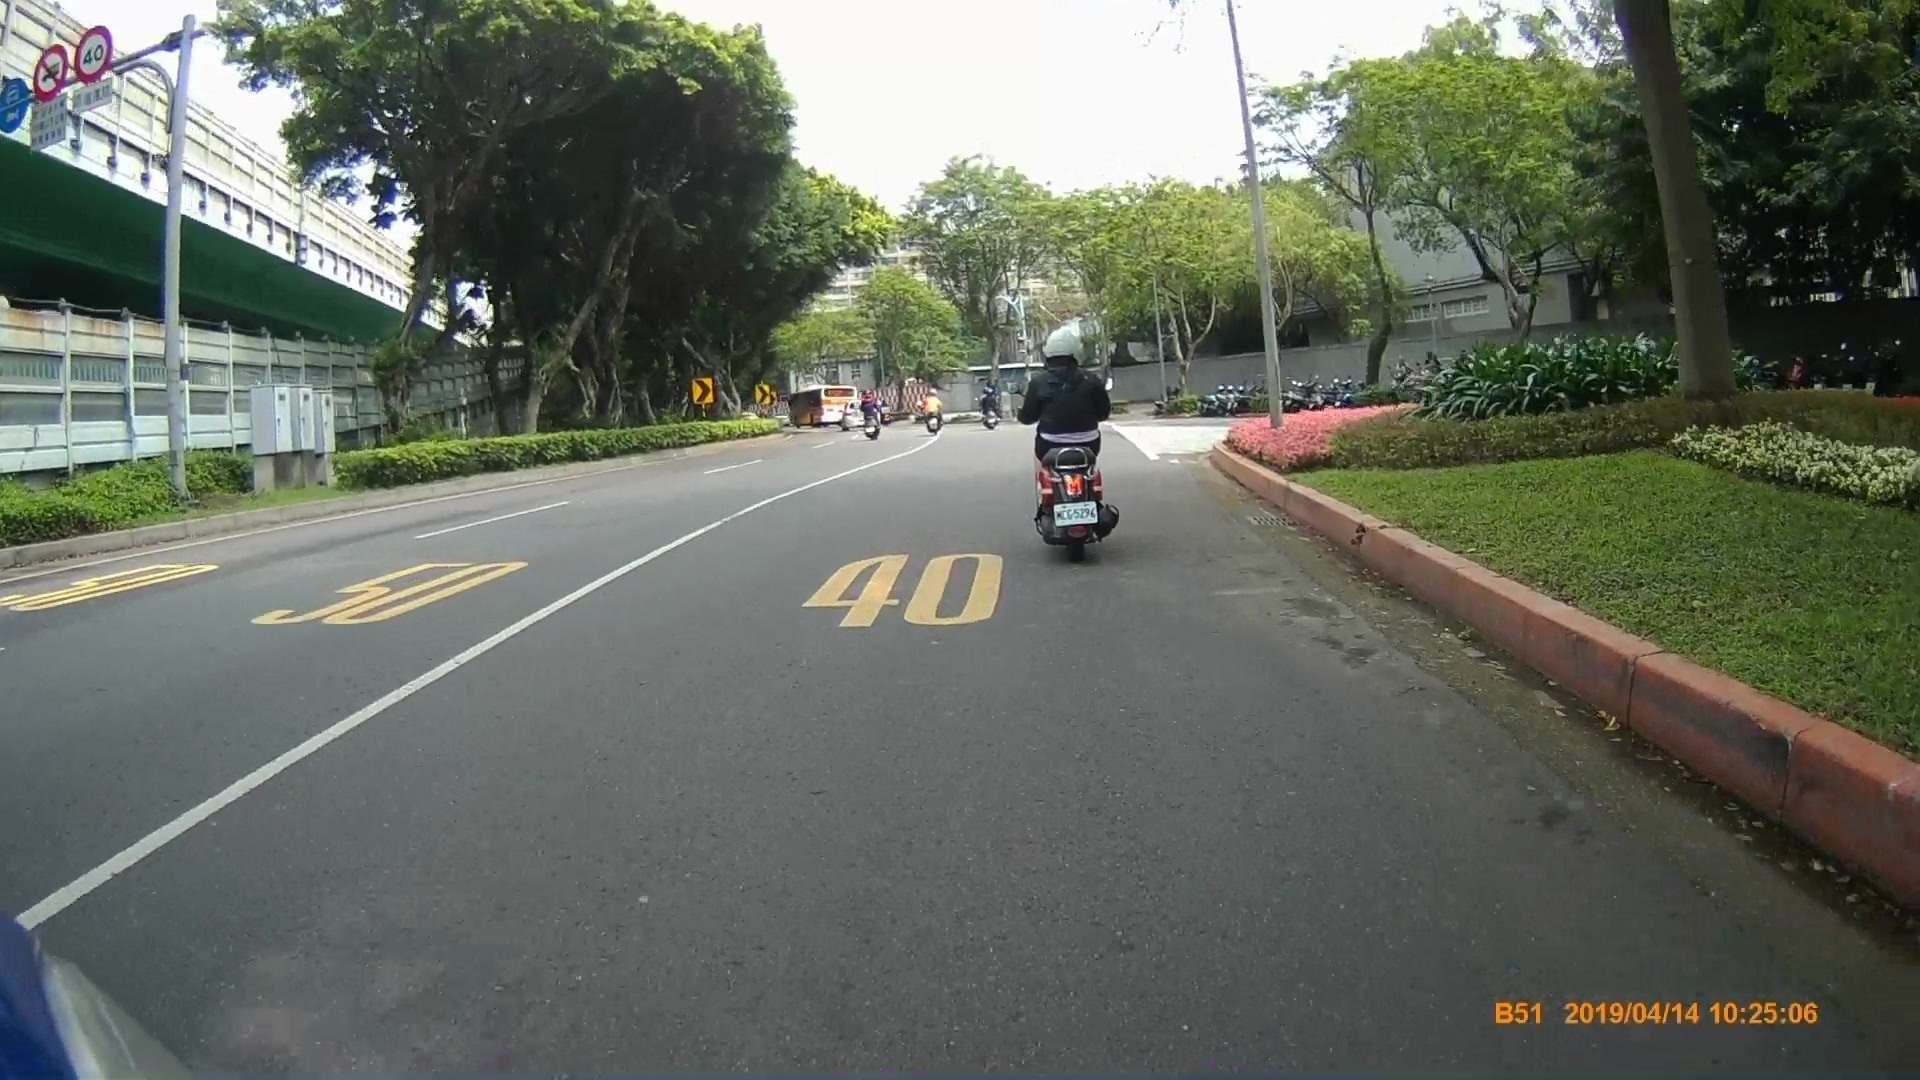License_plate: (1051, 501, 1100, 527)
